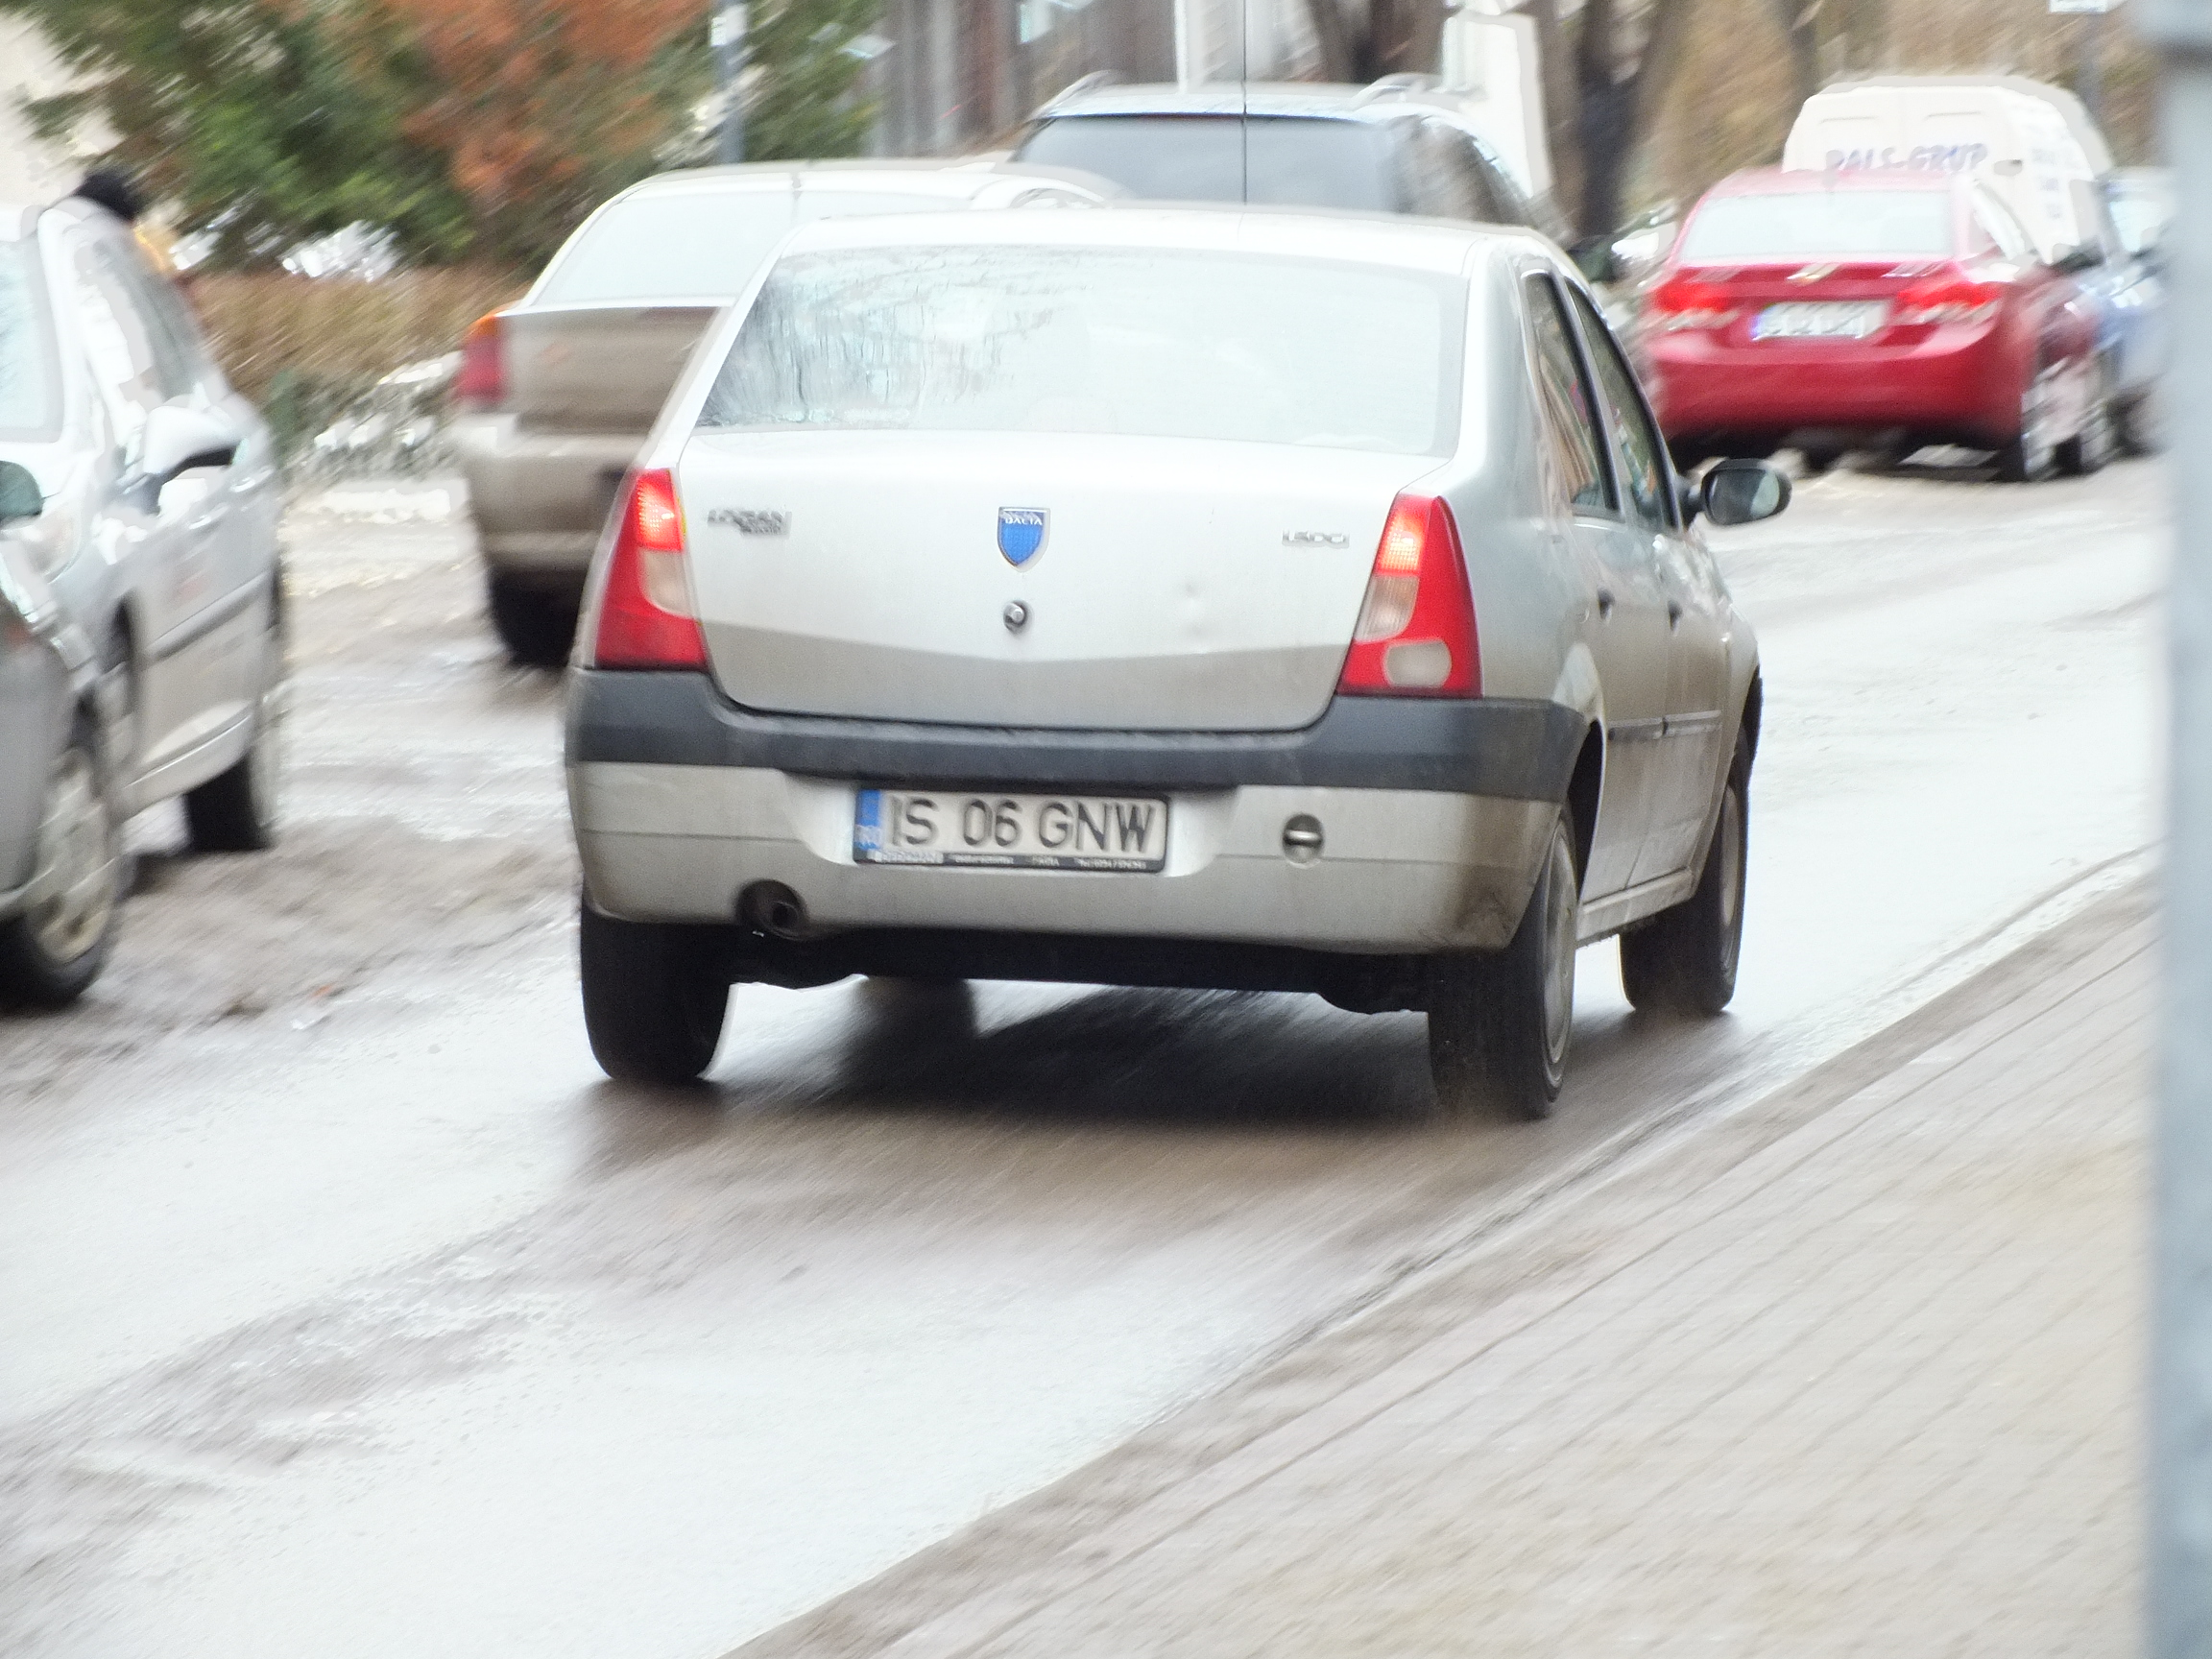IS06GNW: (855, 791, 1160, 857)
